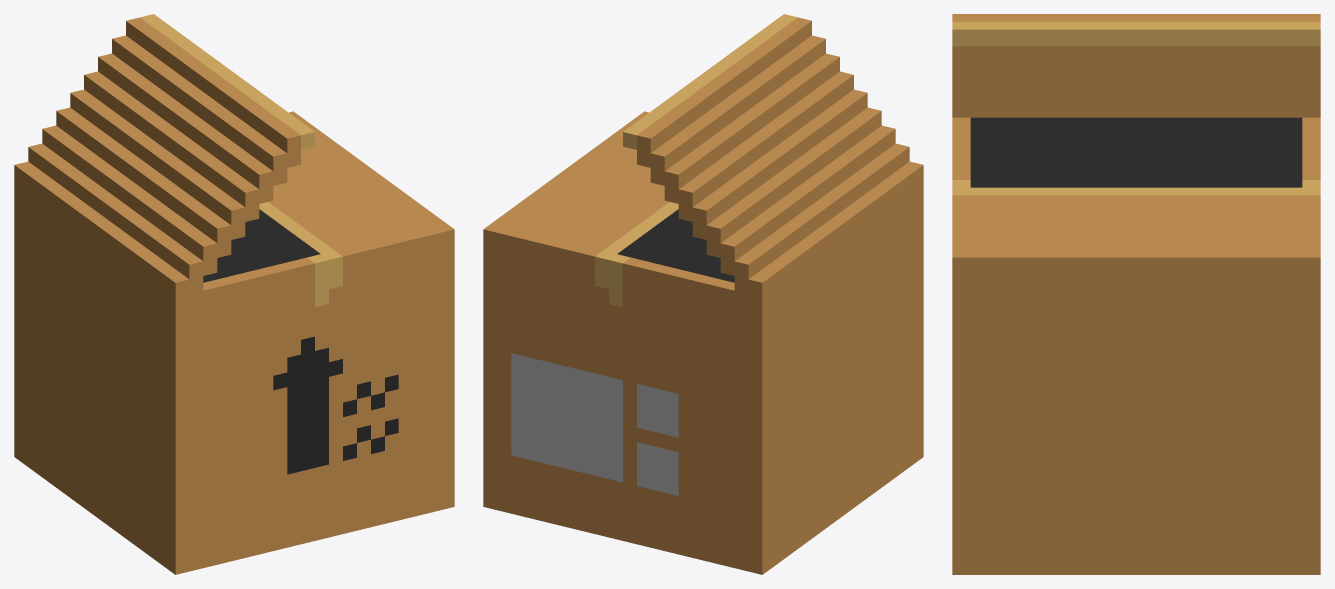
The model's file is collectables-0.obj.
3 views of the same model, side by side, from view 1: azimuth 30°, elevation 25°; view 2: azimuth 150°, elevation 25°; view 3: azimuth 270°, elevation 25° (orthographic). The views are drawn at different scales.
Size of the model in its own units: 2 by 2.8 by 2.
1 material, 1 textured.
